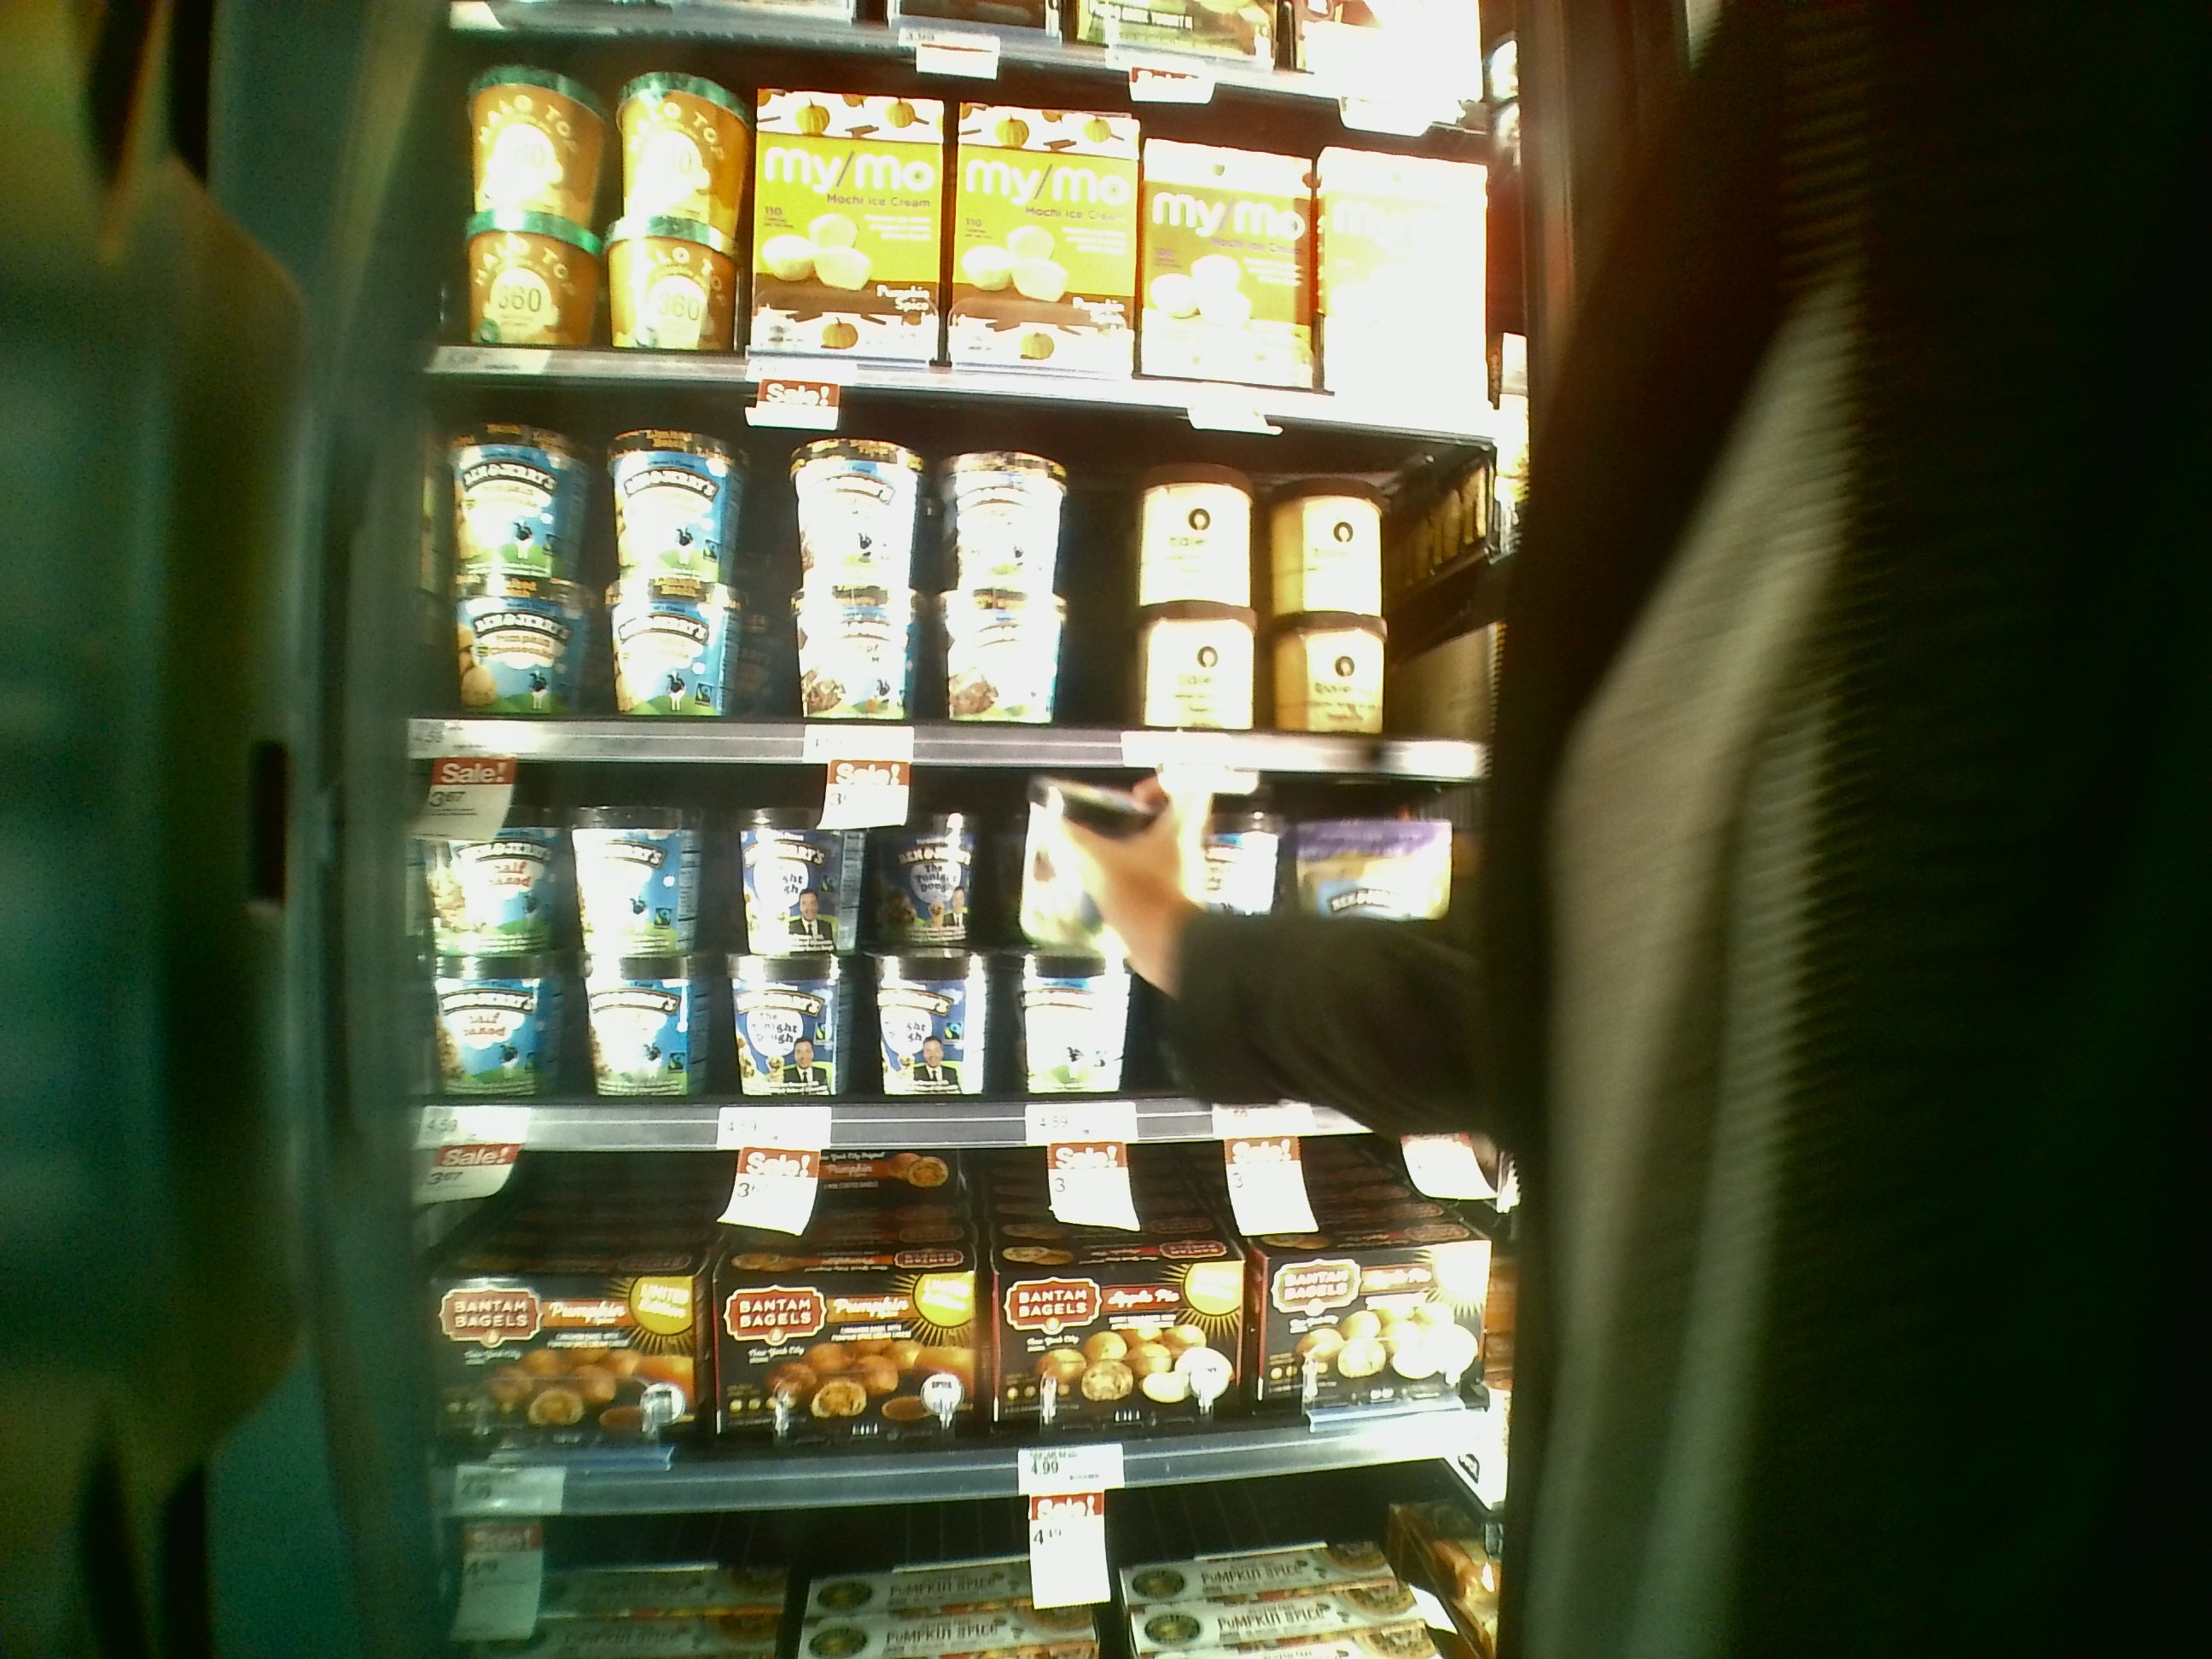shelf: (409, 357, 1508, 758)
